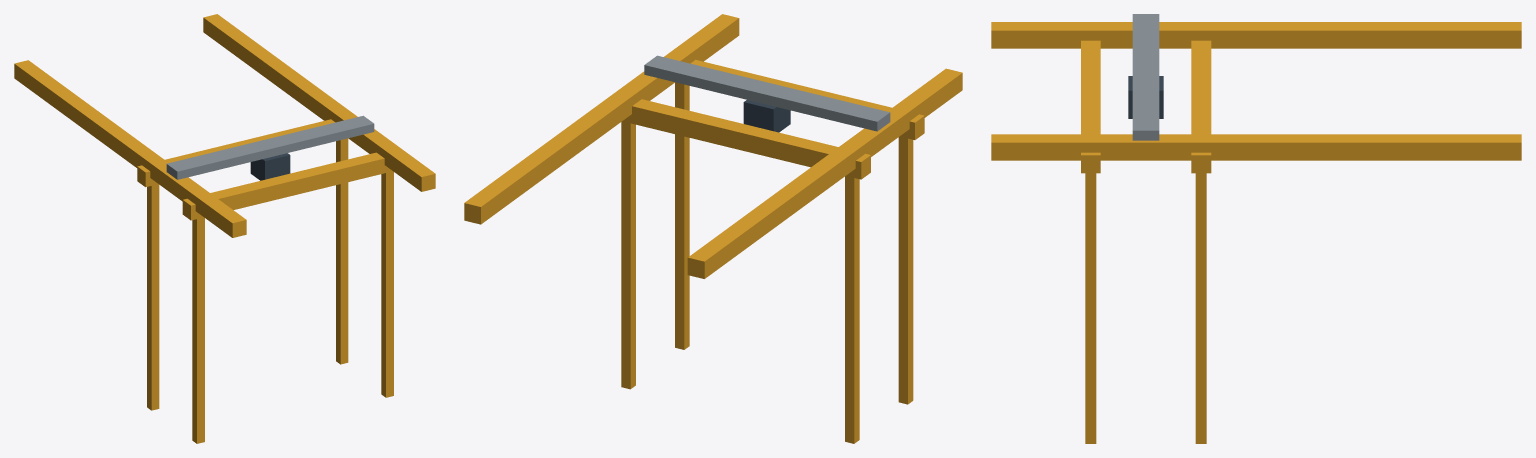
File: crane.glb
The picture shows the model from 3 angles, left to right: view 1: azimuth 30°, elevation 25°; view 2: azimuth 150°, elevation 25°; view 3: azimuth 270°, elevation 25°; orthographic projection. The views are drawn at different scales.
Visible parts, largest first — view 1: Cube; view 2: Cube; view 3: Cube.
Boxes of the visible parts, box(x1,y1,x2,y2) form: Cube: box(14, 14, 435, 443); Cube: box(464, 14, 962, 443); Cube: box(991, 14, 1521, 443).
Size of the model in its own units: 13.5 by 15.65 by 24.
